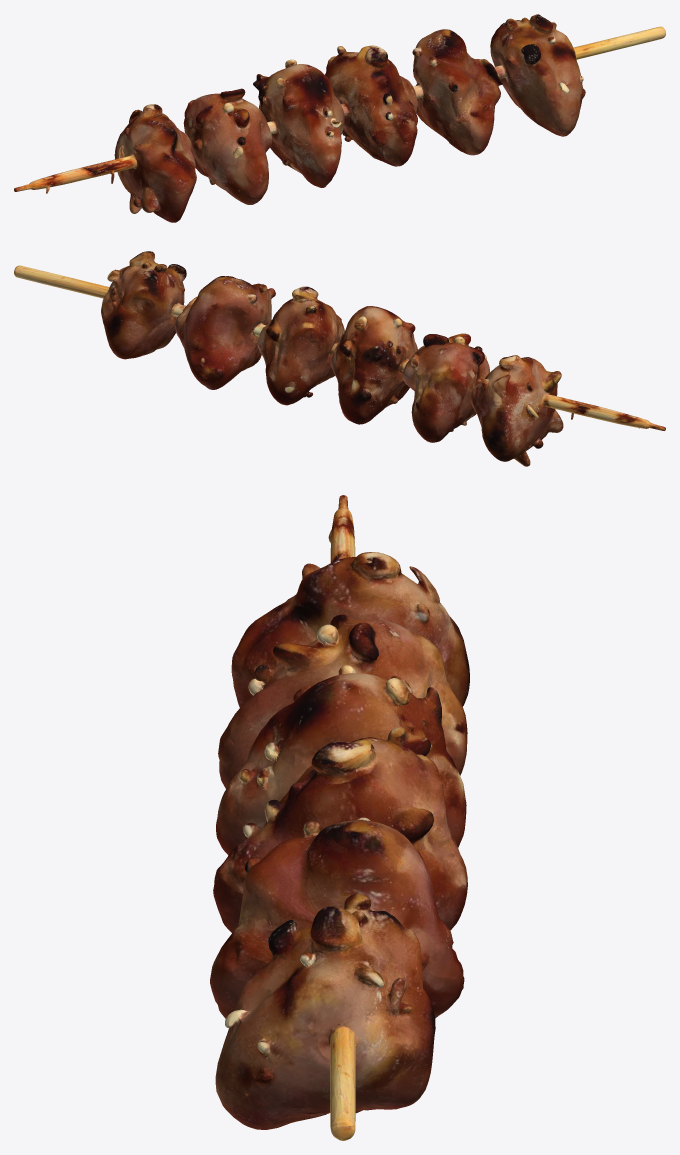
File: chicken-heart-skewer.glb
3 renders of one model, top to bottom at view 1: azimuth 30°, elevation 25°; view 2: azimuth 150°, elevation 25°; view 3: azimuth 270°, elevation 25°, orthographic. The views are drawn at different scales.
Visible parts, largest first — view 1: Mesh_0; view 2: Mesh_0; view 3: Mesh_0.
Boxes of the visible parts, left/top/right/bottom form: Mesh_0: left=14, top=14, right=665, bottom=222; Mesh_0: left=14, top=251, right=665, bottom=466; Mesh_0: left=210, top=495, right=469, bottom=1140.
Bounding box in the file's own units: 0.9995 × 0.1686 × 0.1734.
1 material, 1 textured.
